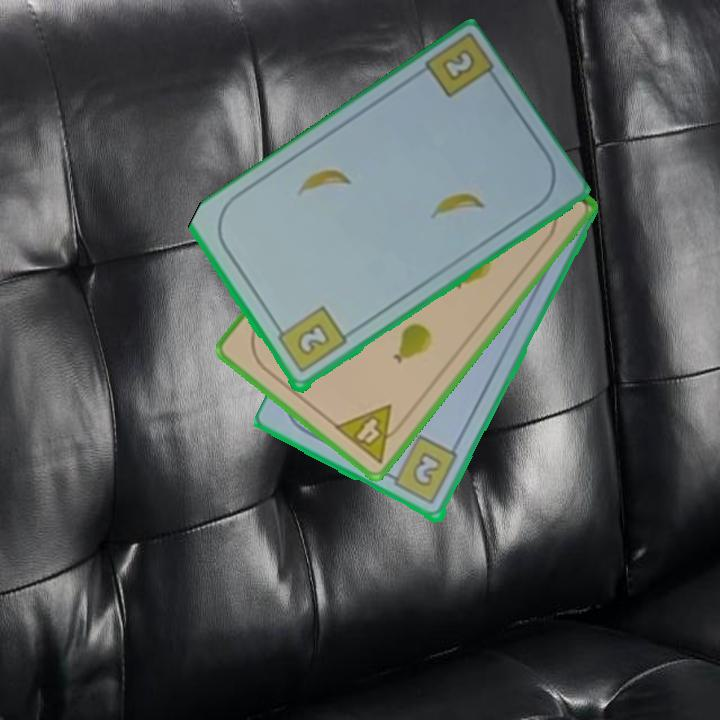2b: (383, 433, 461, 508), (271, 303, 350, 376), (438, 44, 479, 85)
4p: (330, 401, 411, 467)
